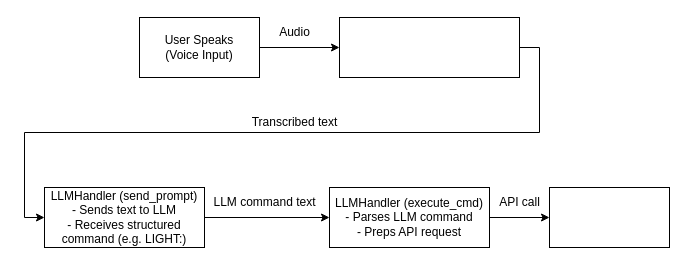
Image size: 687x265. Some labels were removed from this diagram. The shapes that lost their labels are listed below. From the top down, each one's centre as x and y in pixels, then its label:
the point at 429,47: SpeechRecognizer (Whisper) - Records audio via pyaudio - Transcribes to text
the point at 609,217: Home Assistant (API) - Talks to smart devices (lights, etc)
